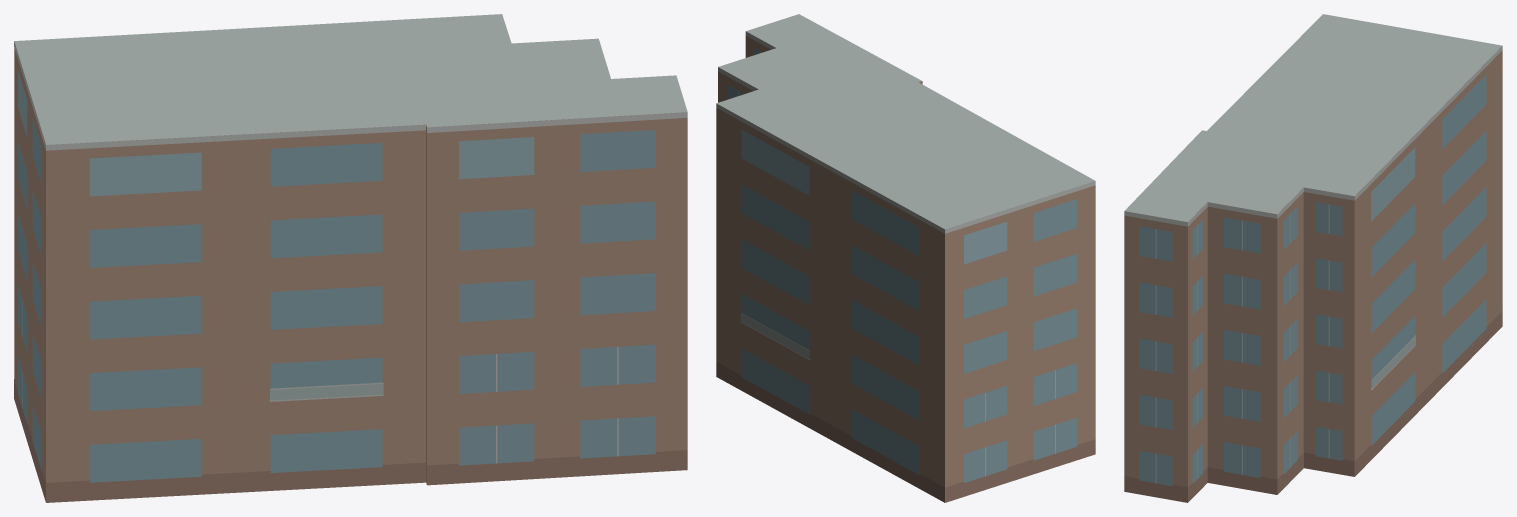
File: survey-upis-32614124.glb
The picture shows the model from 3 angles, left to right: view 1: azimuth 30°, elevation 25°; view 2: azimuth 150°, elevation 25°; view 3: azimuth 270°, elevation 25°; orthographic projection. The views are drawn at different scales.
Visible parts, largest first — view 1: survey-upis-32614124.tmp; view 2: survey-upis-32614124.tmp; view 3: survey-upis-32614124.tmp.
Part boxes in pixels (box(x1,y1,x2,y2)): survey-upis-32614124.tmp: box(14, 14, 687, 502); survey-upis-32614124.tmp: box(716, 14, 1095, 502); survey-upis-32614124.tmp: box(1124, 14, 1502, 502).
Size of the model in its own units: 24.27 by 15.25 by 18.64.
